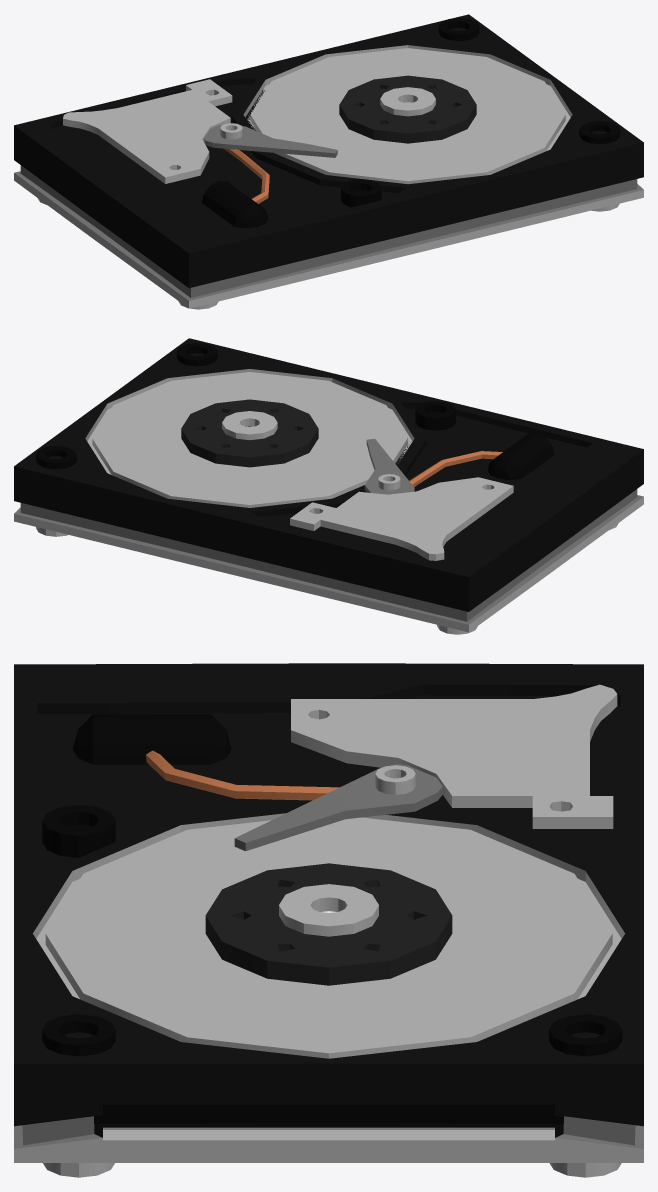
Rendered from Harddrive_01.glb.
3 renders of one model, top to bottom at view 1: azimuth 30°, elevation 25°; view 2: azimuth 150°, elevation 25°; view 3: azimuth 270°, elevation 25°, orthographic. The views are drawn at different scales.
Visible parts, largest first — view 1: Mesh_Harddrive_01; view 2: Mesh_Harddrive_01; view 3: Mesh_Harddrive_01.
Part boxes in pixels (x1,y1,x2,y2): Mesh_Harddrive_01: (14,14,643,309); Mesh_Harddrive_01: (14,338,643,634); Mesh_Harddrive_01: (14,663,643,1177).
Bounding box in the file's own units: 0.1502 × 0.0262 × 0.1.
1 material, 1 textured.
